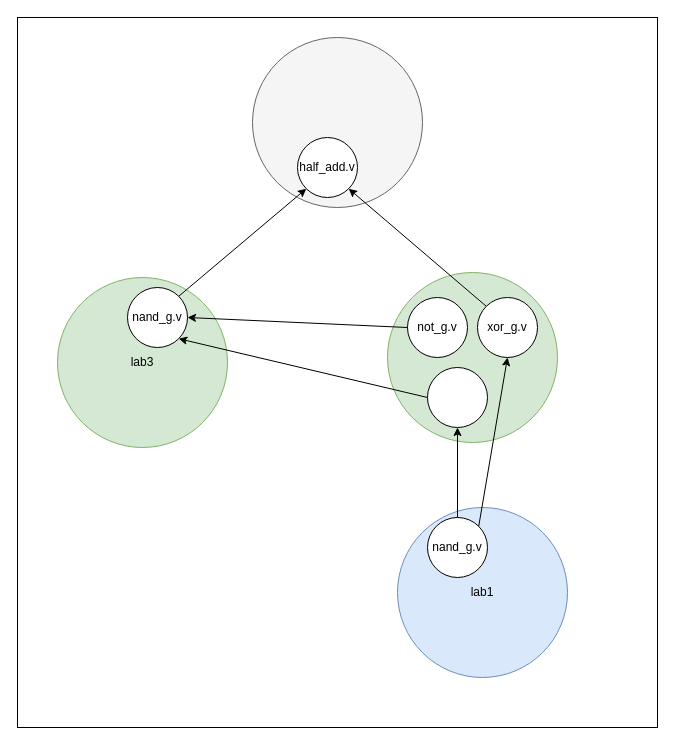
Image size: 675x745. Some labels were removed from this diagram. The box of each missing label's shape, as (x1, y1, x2, y2) in pixels:
and_g.v: (426, 366, 488, 428)
lab2: (386, 272, 558, 442)
lab4: (252, 36, 422, 208)
